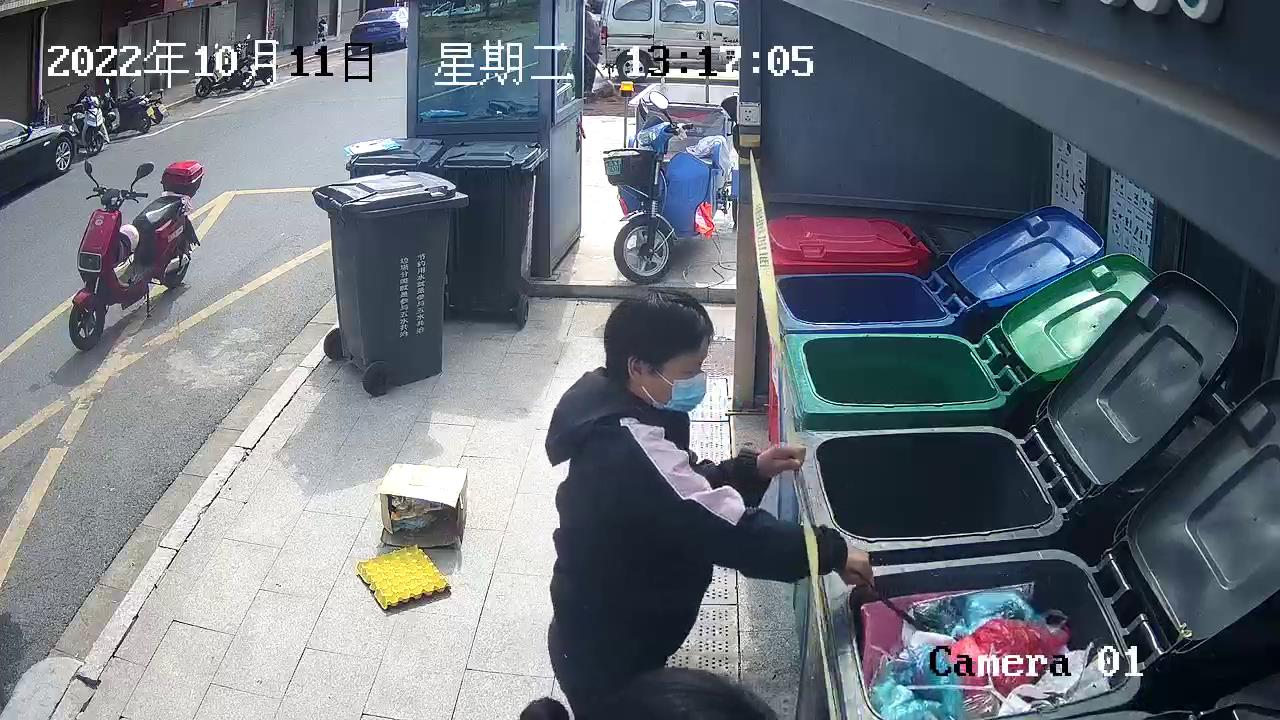person: (545, 288, 876, 720)
zhizhipin: (377, 460, 470, 551), (354, 542, 452, 613)
